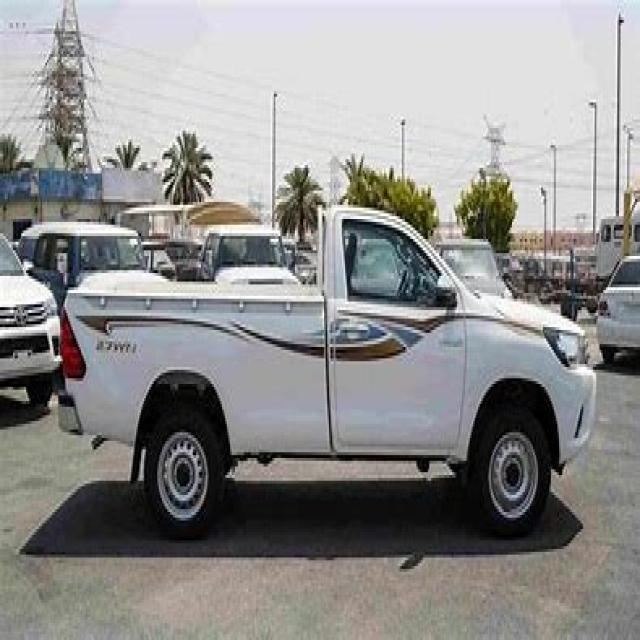light_vehicle: (51, 196, 594, 555)
